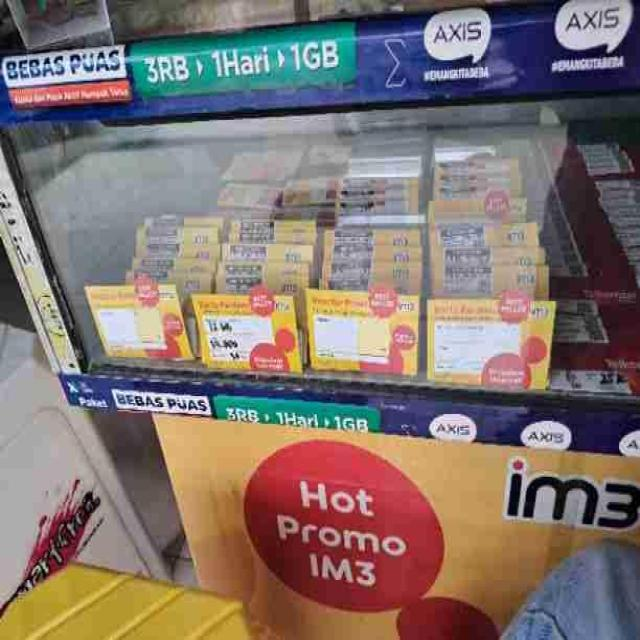Telkomsel: (556, 122, 640, 388)
im3: (433, 153, 545, 289), (432, 294, 556, 387), (307, 286, 421, 380), (193, 290, 301, 368), (88, 285, 187, 361), (220, 214, 313, 287), (133, 207, 215, 287), (324, 225, 422, 288)
